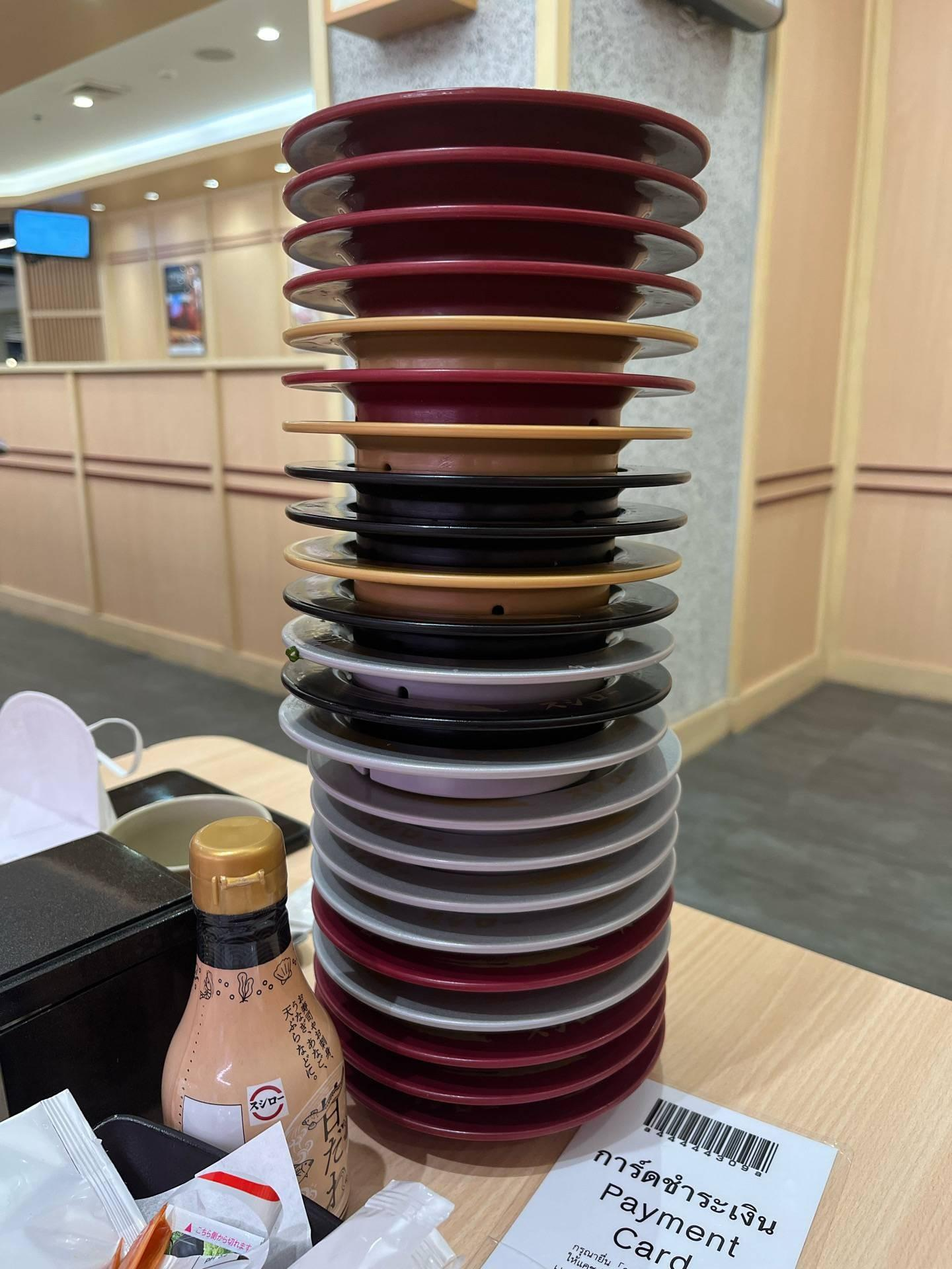Janback: (307, 471, 685, 515), (319, 518, 683, 558), (321, 613, 674, 647), (308, 705, 663, 733)
Jangold: (301, 318, 678, 366), (302, 429, 692, 470), (322, 565, 676, 610)
Janred: (285, 87, 732, 149), (303, 146, 723, 199), (320, 255, 689, 310), (314, 206, 718, 256), (310, 372, 713, 415), (394, 956, 619, 983), (392, 1070, 592, 1096), (405, 1111, 594, 1138), (393, 1036, 602, 1056)
Janwhite: (343, 745, 626, 783), (349, 790, 651, 824), (366, 831, 642, 866), (332, 660, 643, 691), (383, 878, 630, 909), (369, 994, 629, 1021), (401, 911, 619, 937)
